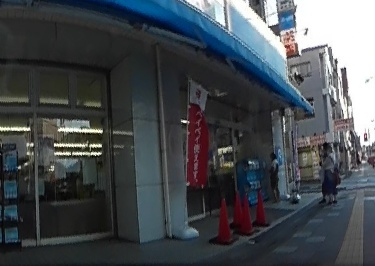person: (315, 142, 339, 202), (268, 151, 281, 199)
